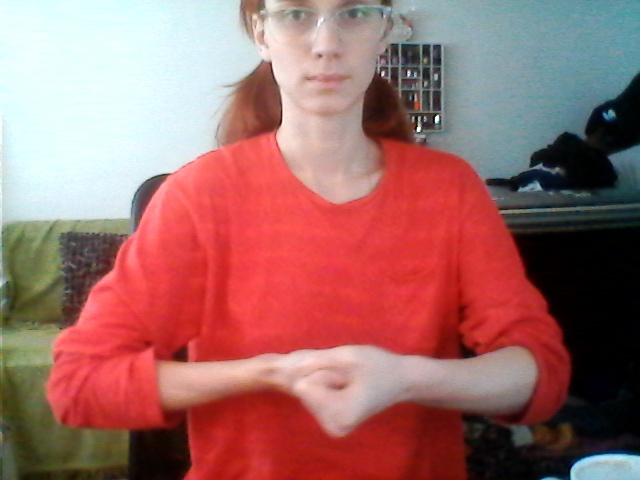hasic: (232, 311, 421, 448)
